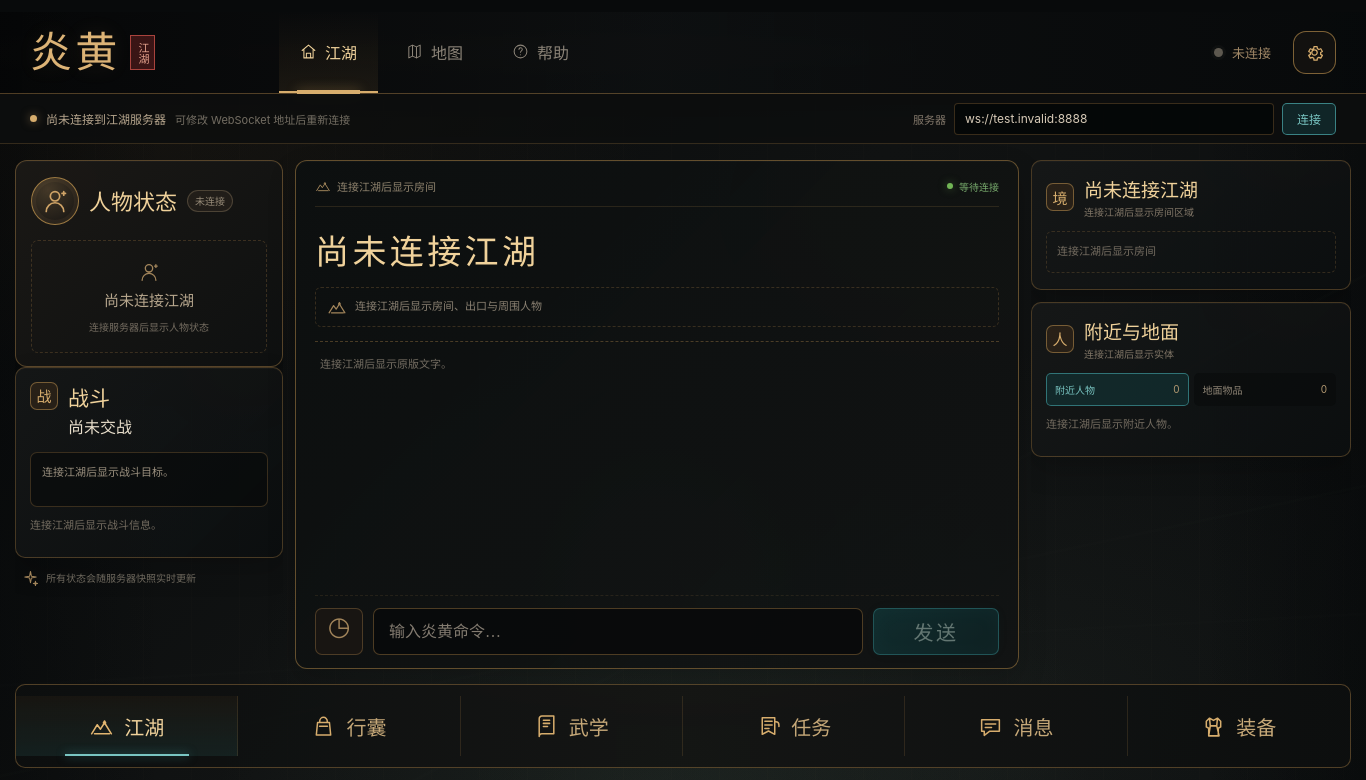
Test: App › keeps the insecure HTTP deployment in ordinary Web mode without PWA prompts
Click the button named "打开应用设置" at [1314, 52], box [1293,31,1336,74]
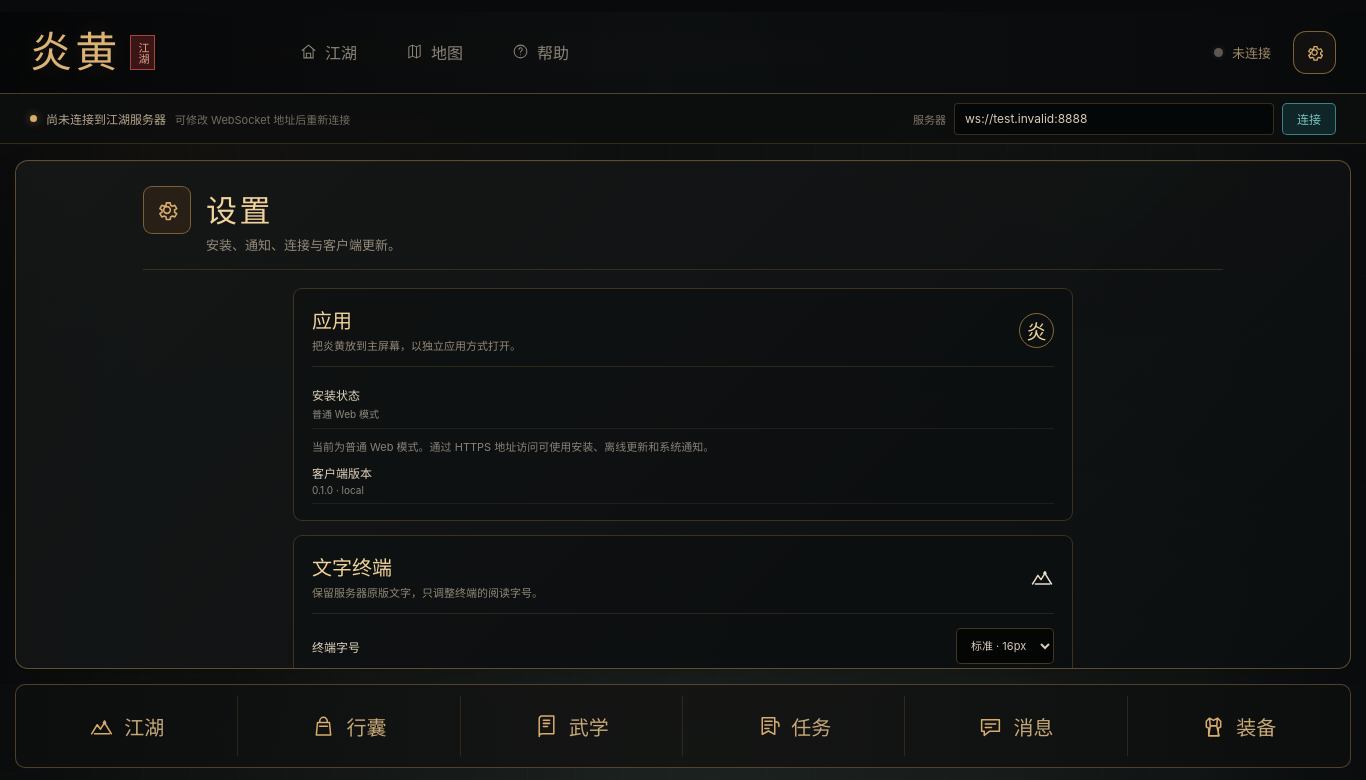
Expected: the button "连接" is shown, [1282,102,1336,134]
Expected: the text "普通 Web 模式" is shown, [312,406,379,421]
Expected: the text "当前为普通 Web 模式。通过 HTTPS 地址访问可使用安装、离线更新和系统通知。" is shown, [312,440,714,454]
